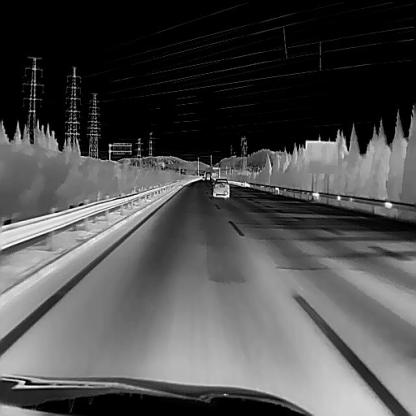car: (212, 177, 229, 198)
